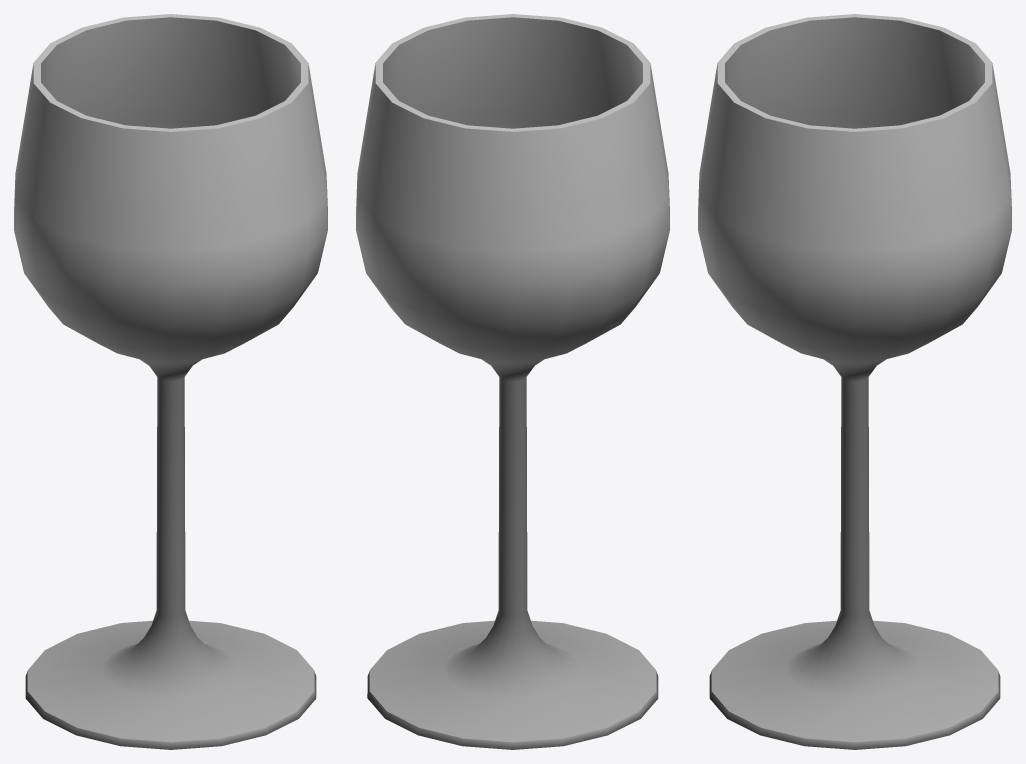
The model's file is cup_02.fbx.
The picture shows the model from 3 angles, left to right: view 1: azimuth 30°, elevation 25°; view 2: azimuth 150°, elevation 25°; view 3: azimuth 270°, elevation 25°; orthographic projection.
Parts seen in each view (by area): view 1: cup_2; view 2: cup_2; view 3: cup_2.
Part boxes in pixels (x1,y1,x2,y2): cup_2: [14, 14, 327, 749]; cup_2: [356, 14, 669, 749]; cup_2: [698, 14, 1011, 749].
Bounding box in the file's own units: 0.101 × 0.215 × 0.0995.
